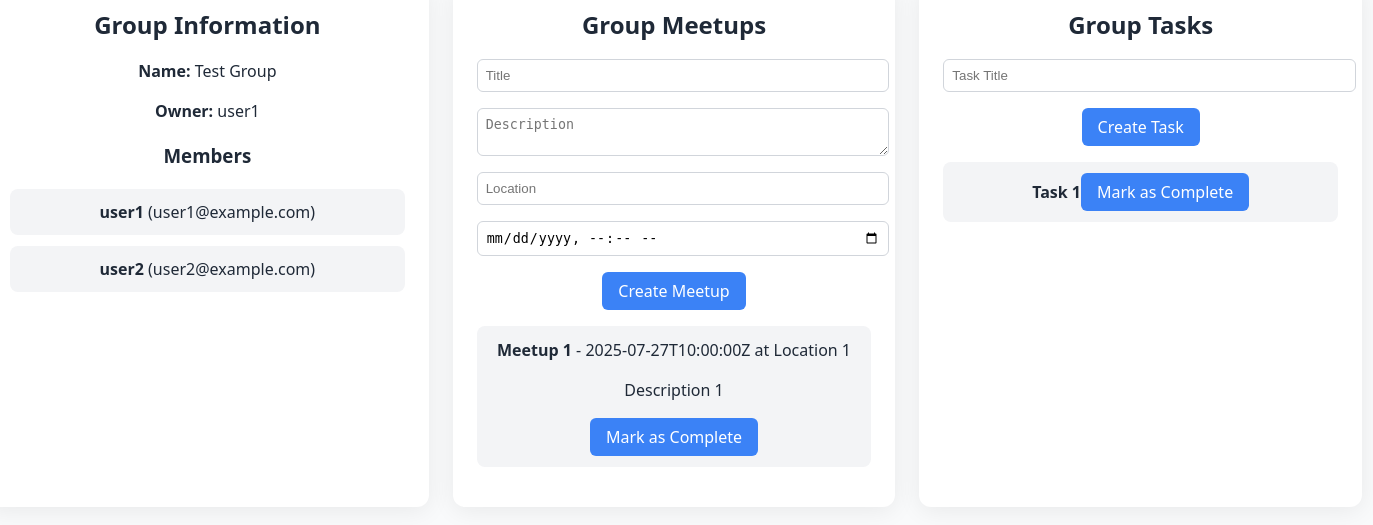
it: GroupView Component › marks task as complete
Expected: the text "Task 1" is shown, [1032,181,1081,203]
Note: Find all 'Mark as Complete' buttons and click the last one (for task)
Click the button "Mark as Complete" next to "Task 1" at (1165, 192), box [1081,173,1249,211]
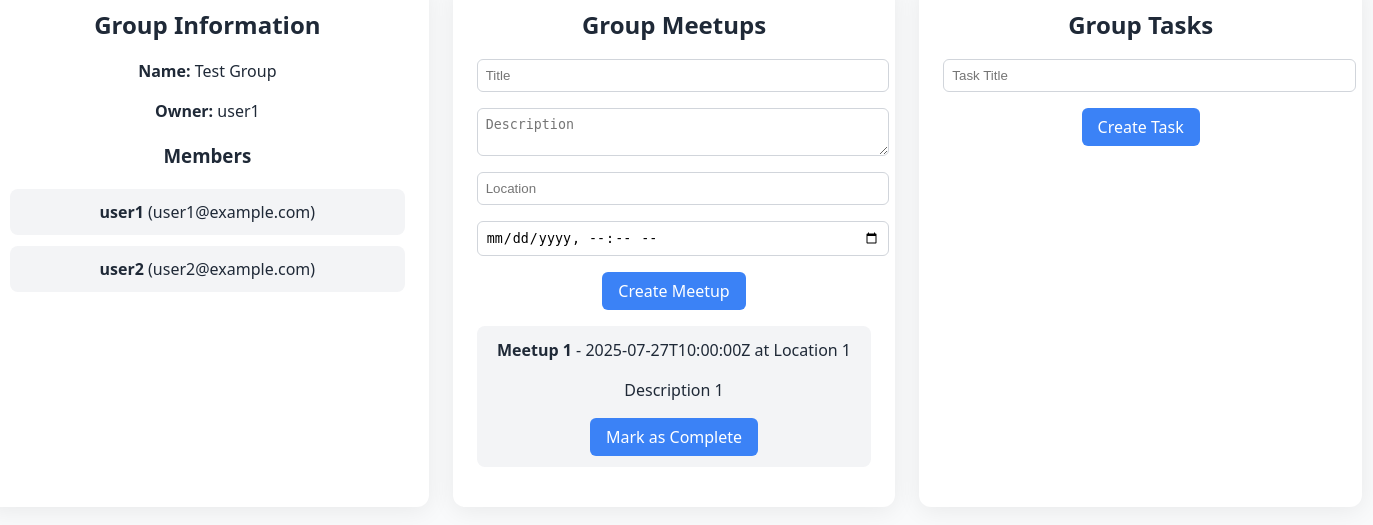
Expected: the text "Task 1" is gone
